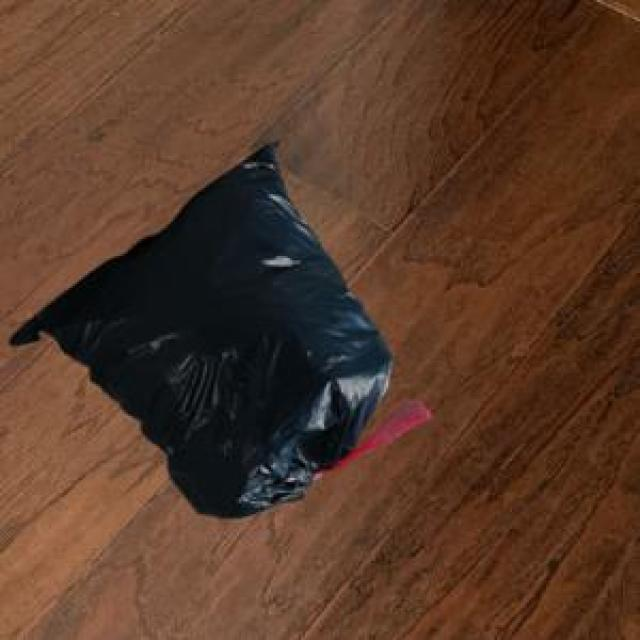miscellaneous trash: (6, 139, 427, 514)
